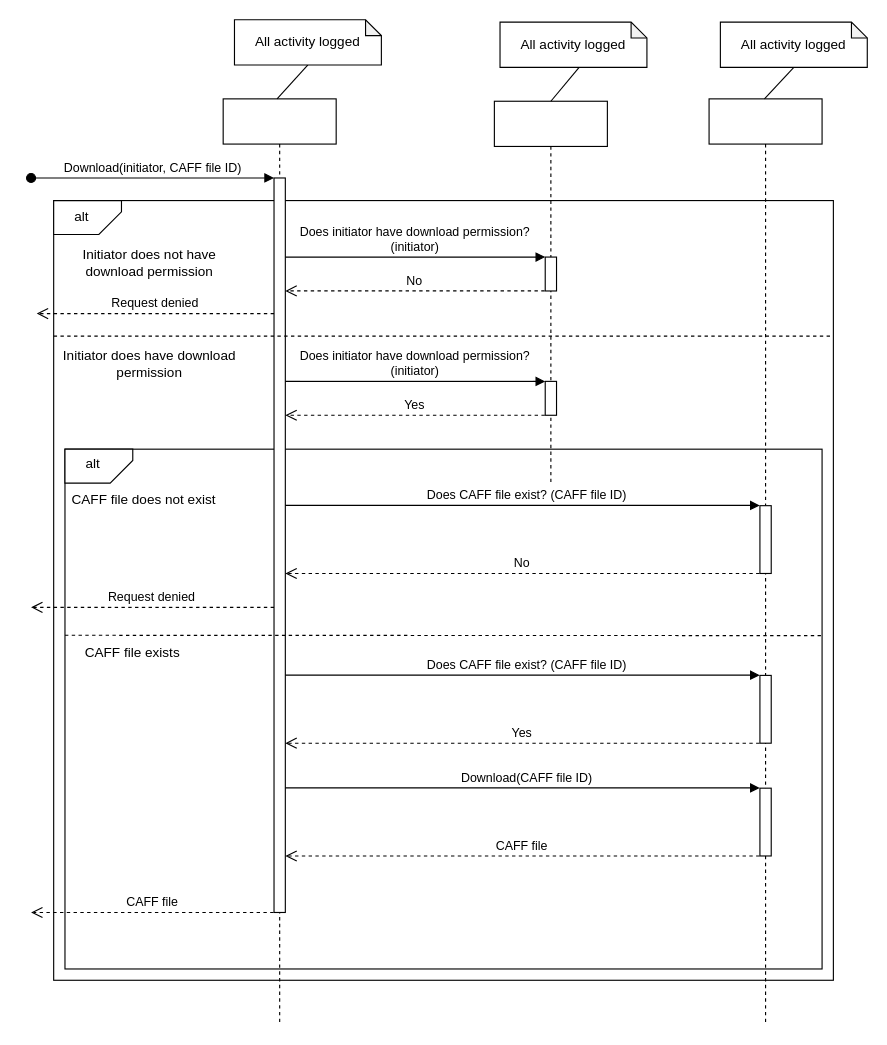
The diagram is 887 pixels wide and 1045 high, and some of its shapes have lost their labels. Each missing label, with the box of its shape:
CAFF database: (708, 98, 822, 1025)
CAFF manager: (222, 98, 336, 1025)
User data manager: (493, 100, 607, 483)
